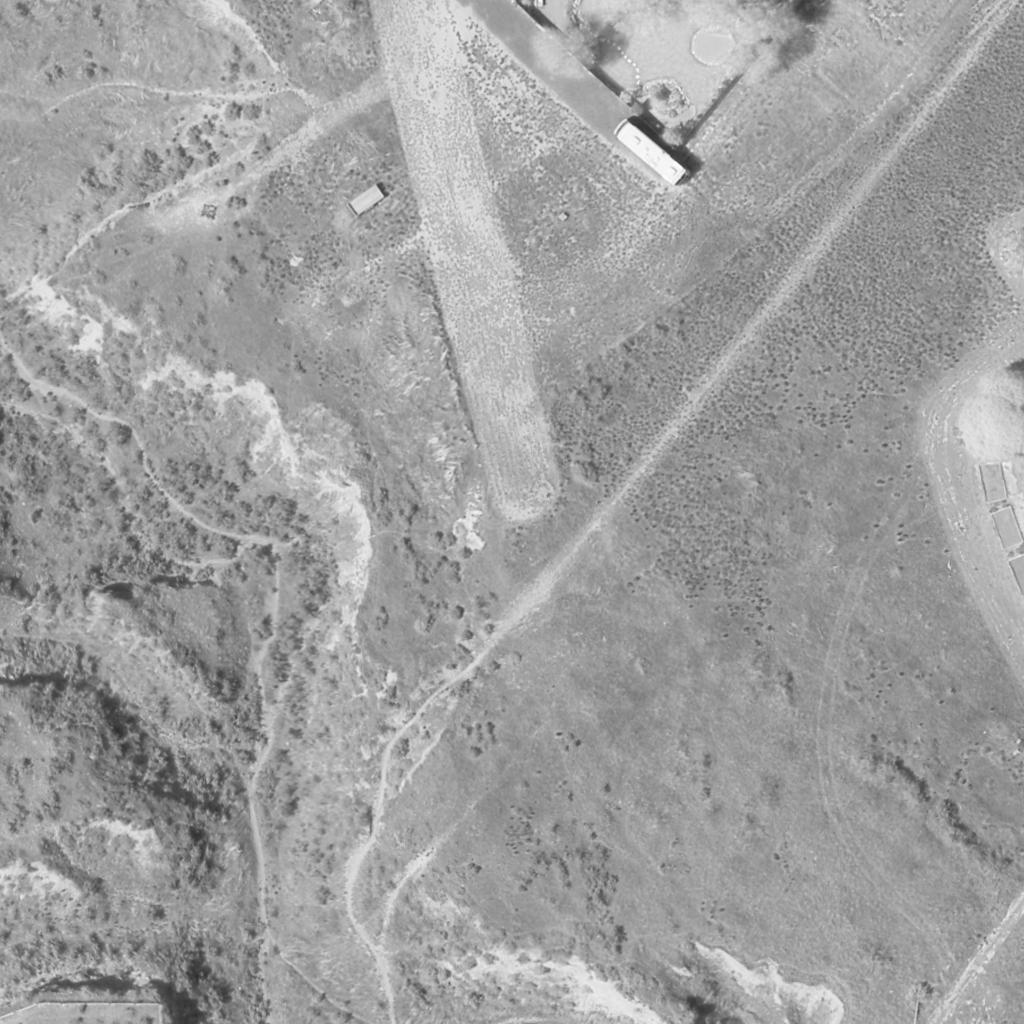vehicle: (611, 118, 689, 188)
